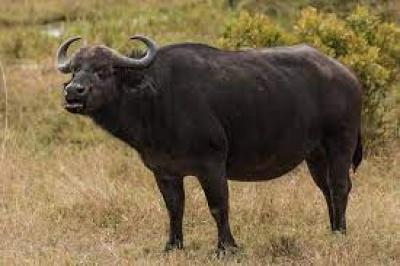buffalo: (57, 35, 362, 255)
